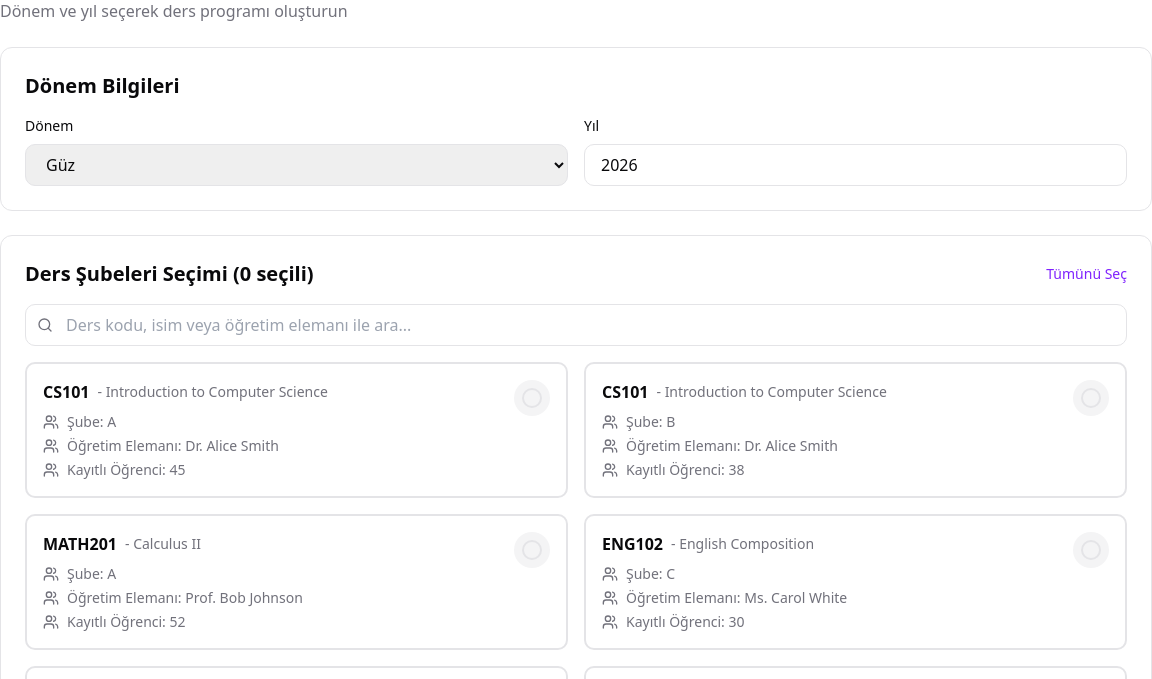
Test: GenerateSchedulePage › selects sections and generates schedule
This screenshot has width=1152, height=679.
Check: the 1st heading "CS101" is shown, box x1=43 y1=380 x2=90 y2=404
Select first section by clicking on it
Click the text "CS101" at (296, 430), box x1=25 y1=362 x2=568 y2=498
(page scrolled)
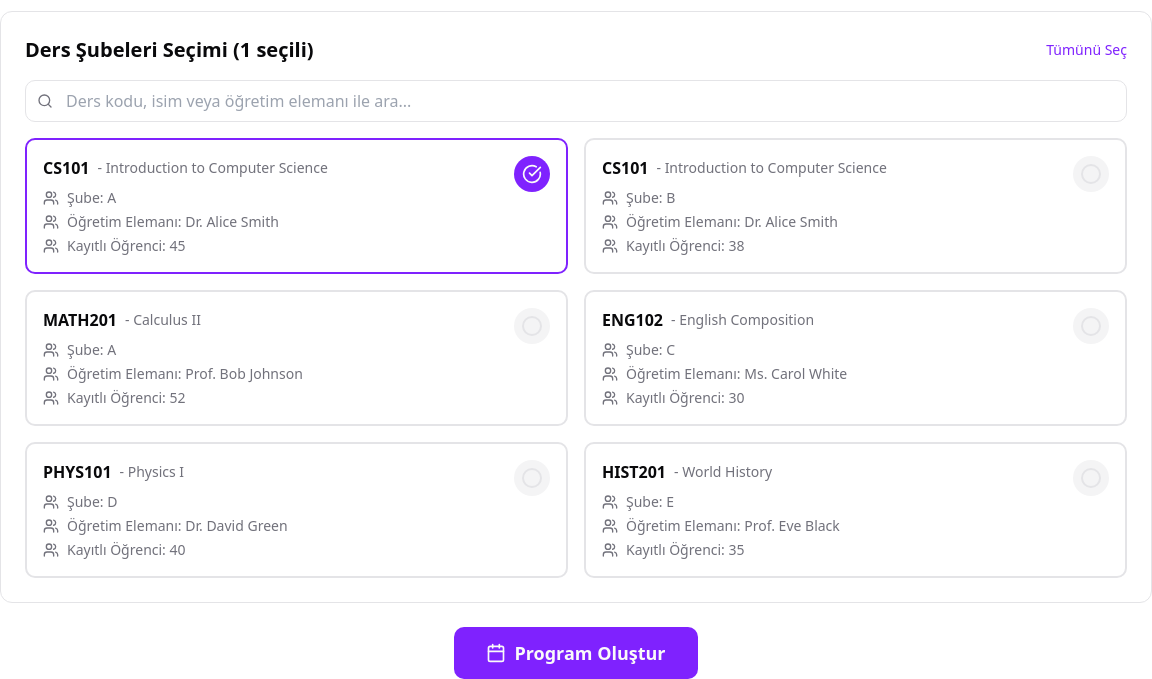
Check: the heading "Ders Şubeleri Seçimi (1 seçili)" is shown, box x1=25 y1=36 x2=314 y2=64
Click Generate
Click the button "Program Oluştur" at (576, 653), box x1=454 y1=627 x2=698 y2=678
(page scrolled)
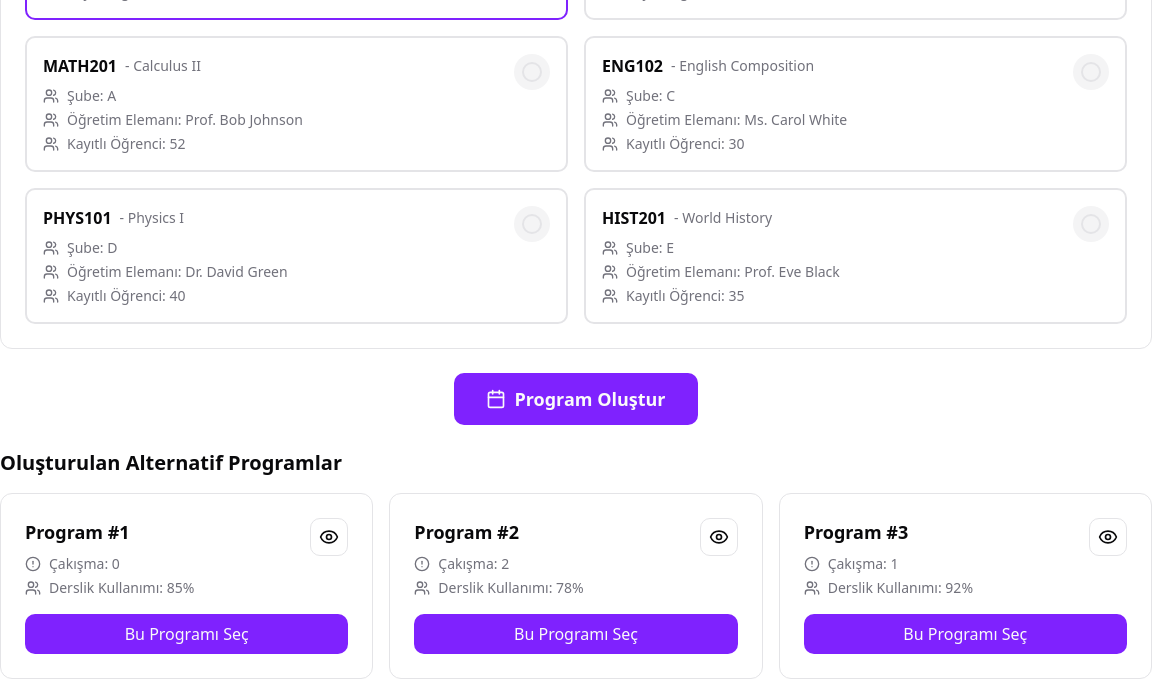
Check: the heading "Oluşturulan Alternatif Programlar" is shown, box x1=0 y1=449 x2=342 y2=476
